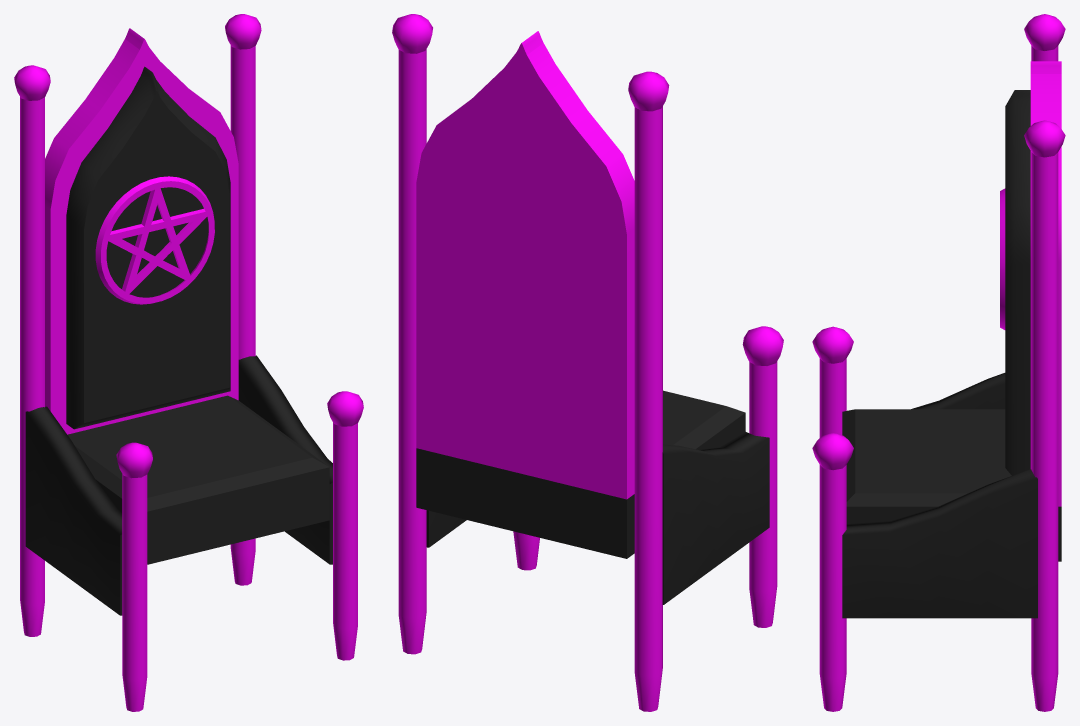
The model's file is PentagramChair.fbx.
3 views of the same model, side by side, from view 1: azimuth 30°, elevation 25°; view 2: azimuth 150°, elevation 25°; view 3: azimuth 270°, elevation 25° (orthographic). The views are drawn at different scales.
Visible parts, largest first — view 1: PentagramChair; view 2: PentagramChair; view 3: PentagramChair.
Part boxes in pixels (x1,y1,x2,y2): PentagramChair: [14, 14, 363, 711]; PentagramChair: [392, 14, 783, 711]; PentagramChair: [812, 14, 1065, 711].
Size of the model in its own units: 2.41 by 5.39 by 2.08.
